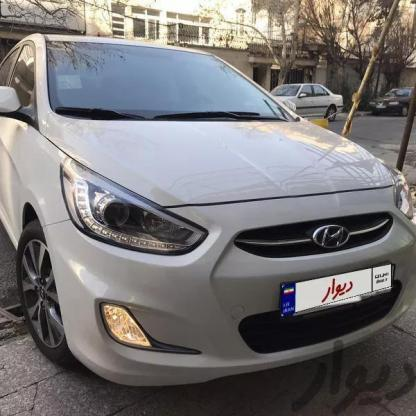Car: (0, 28, 416, 385), (250, 76, 355, 130), (360, 85, 416, 114)
